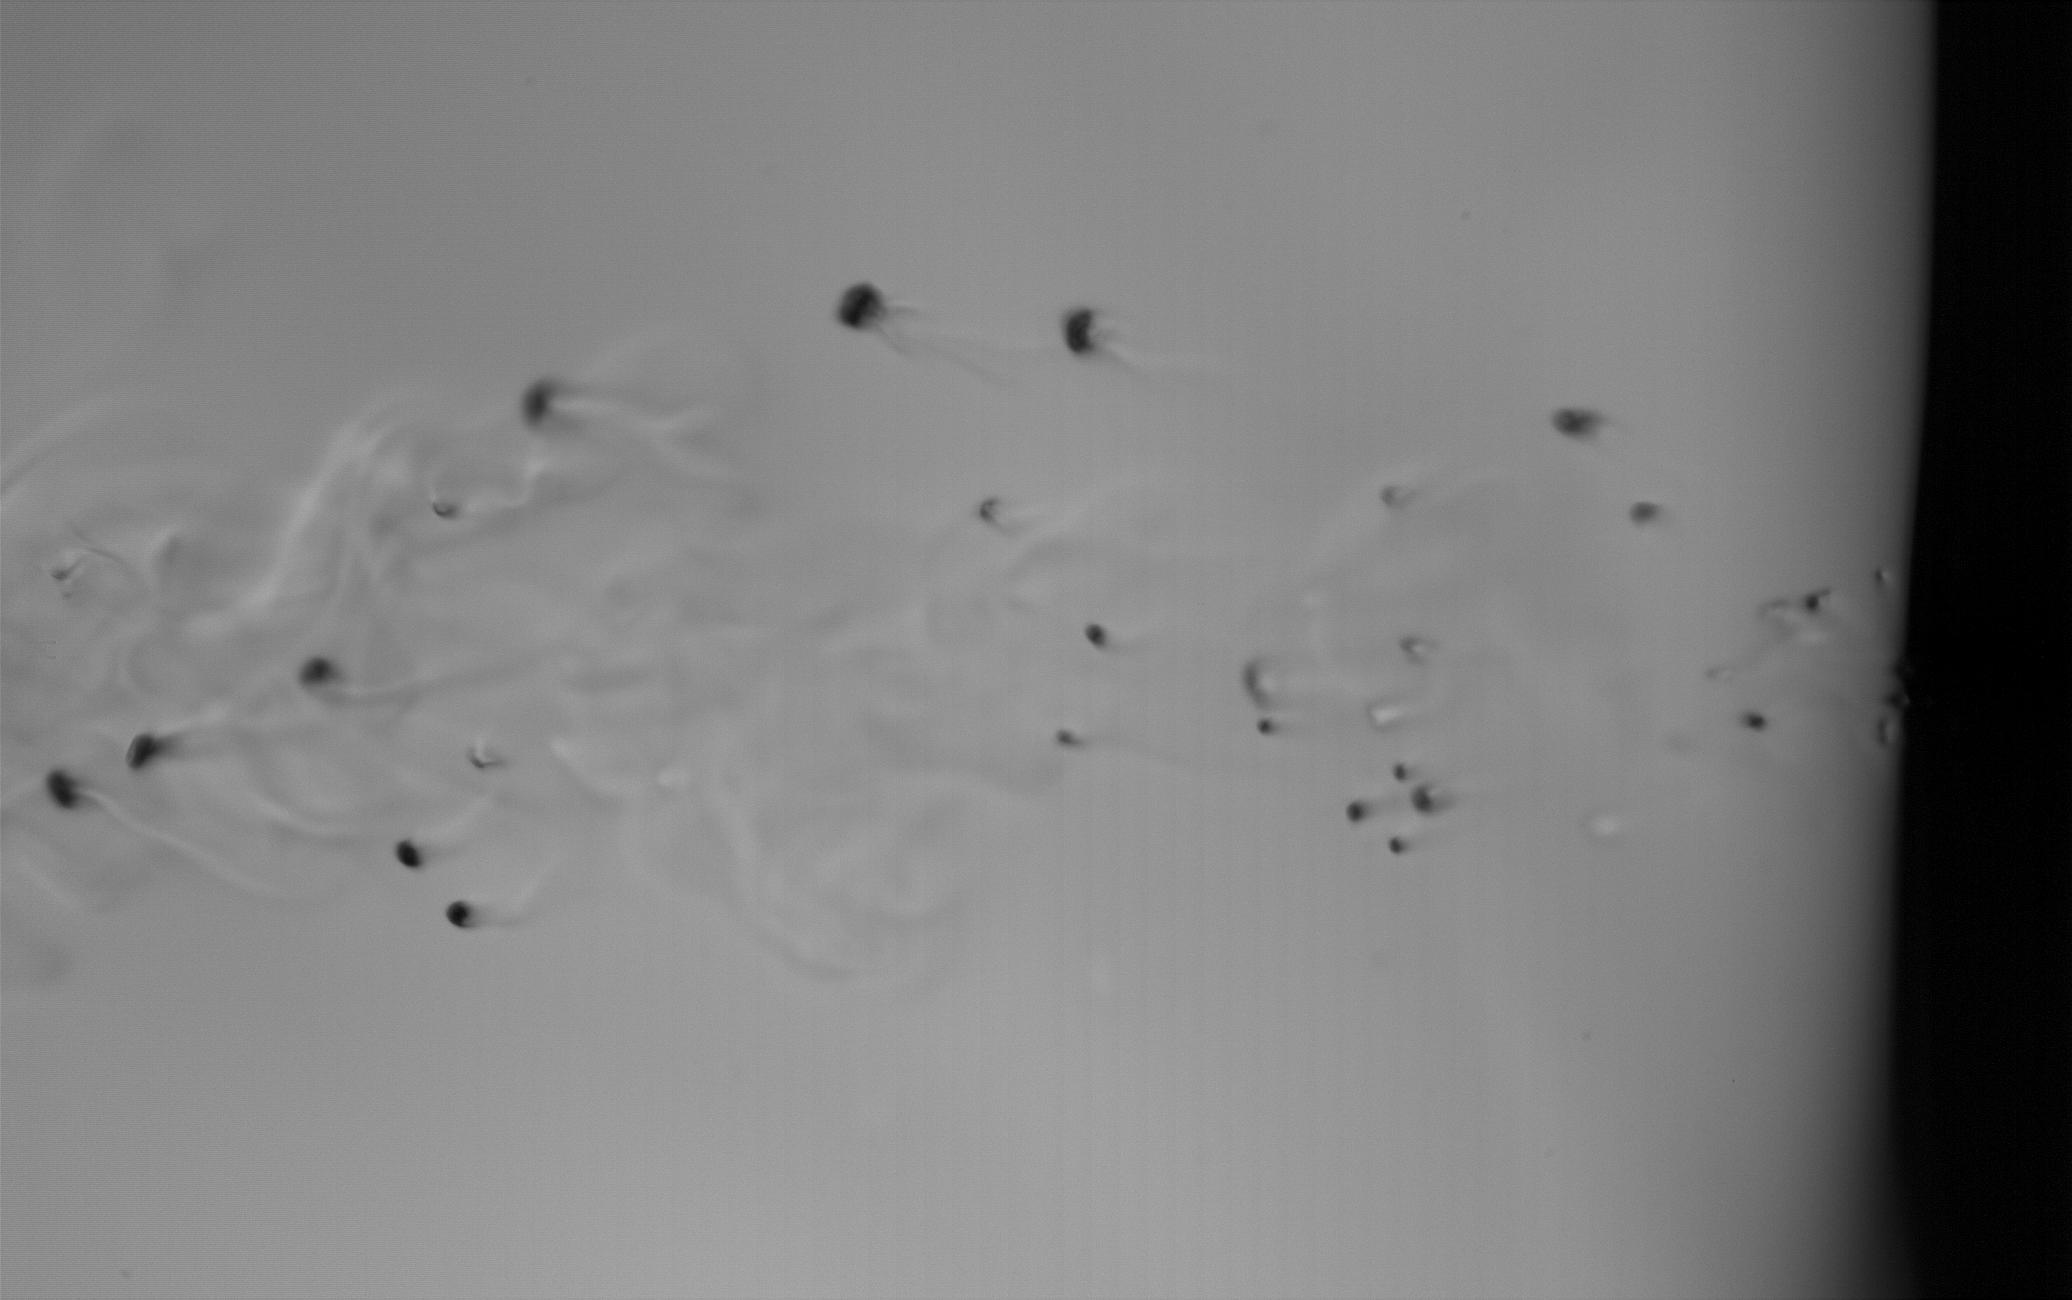Blurry: (123, 729, 192, 774), (1409, 776, 1458, 821), (299, 651, 347, 686), (448, 899, 481, 927), (1627, 499, 1656, 526), (978, 497, 1000, 530), (1054, 728, 1082, 747)
ClassicalEvaporation: (1741, 708, 1768, 738), (1803, 589, 1829, 616), (1344, 797, 1370, 824), (1383, 831, 1409, 858), (1392, 756, 1418, 783), (1256, 711, 1282, 738)
TransitionalMixing: (832, 277, 883, 332), (519, 373, 555, 428), (1061, 307, 1096, 358), (1551, 403, 1600, 437), (45, 765, 81, 810), (392, 839, 422, 875), (1084, 622, 1109, 653)
